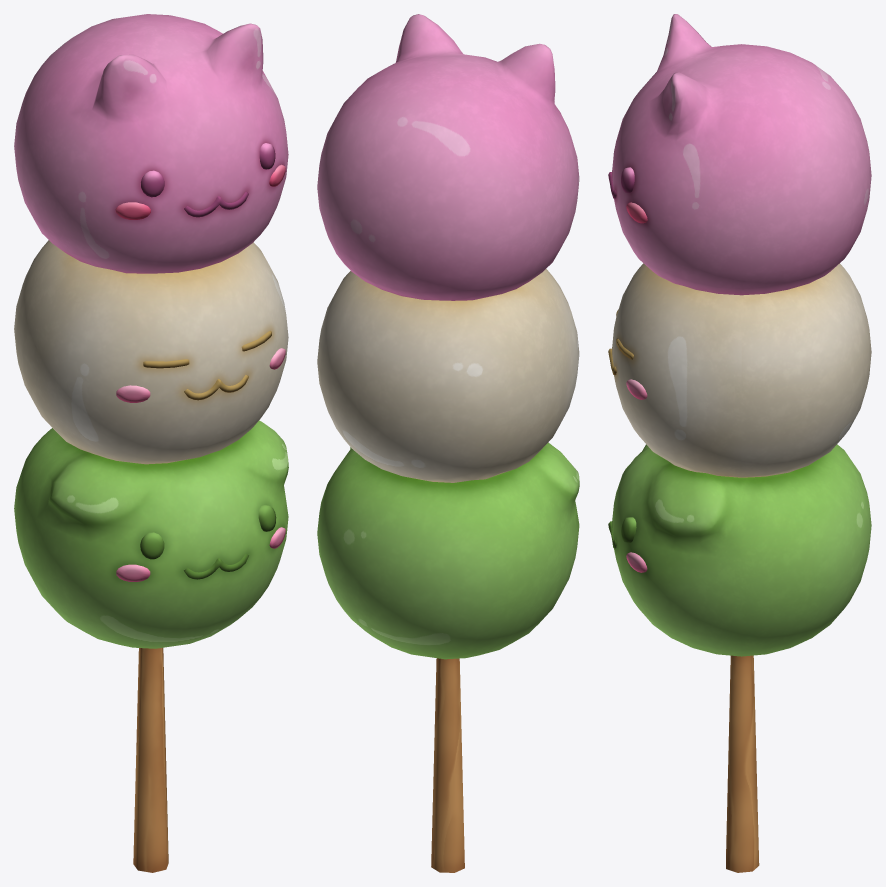
The model's file is DangoAnimals.fbx.
3 views of the same model, side by side, from view 1: azimuth 30°, elevation 25°; view 2: azimuth 150°, elevation 25°; view 3: azimuth 270°, elevation 25° (orthographic). The views are drawn at different scales.
Visible parts, largest first — view 1: DangoAnimals; view 2: DangoAnimals; view 3: DangoAnimals.
Boxes of the visible parts, bbox=[...] form: DangoAnimals: bbox=[14, 14, 288, 872]; DangoAnimals: bbox=[317, 14, 579, 872]; DangoAnimals: bbox=[608, 14, 871, 872].
Bounding box in the file's own units: 0.1962 × 0.6838 × 0.1987.
